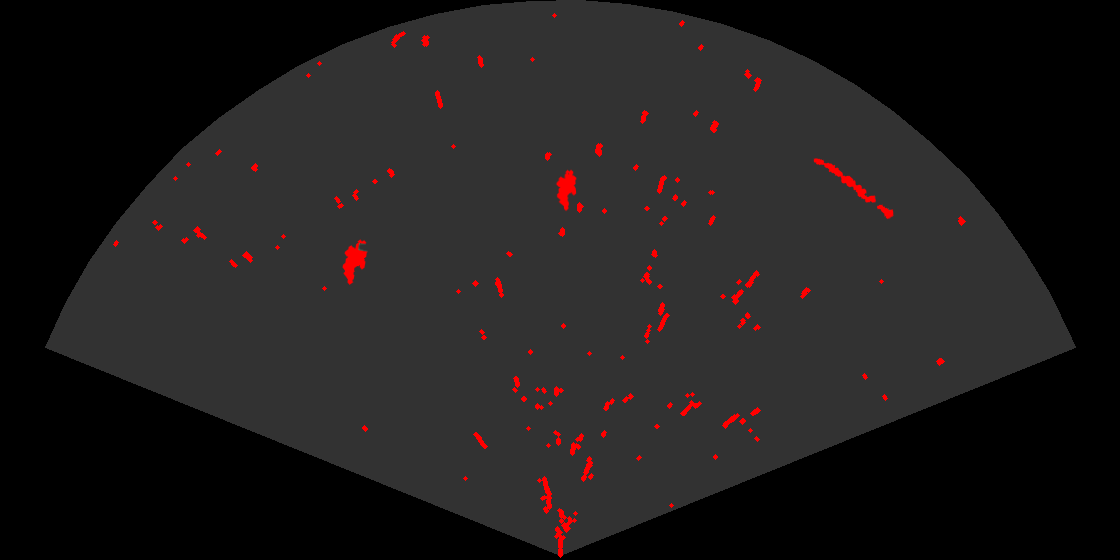AUV: (341, 238, 369, 286), (554, 168, 578, 213)
chain: (812, 157, 895, 221)
